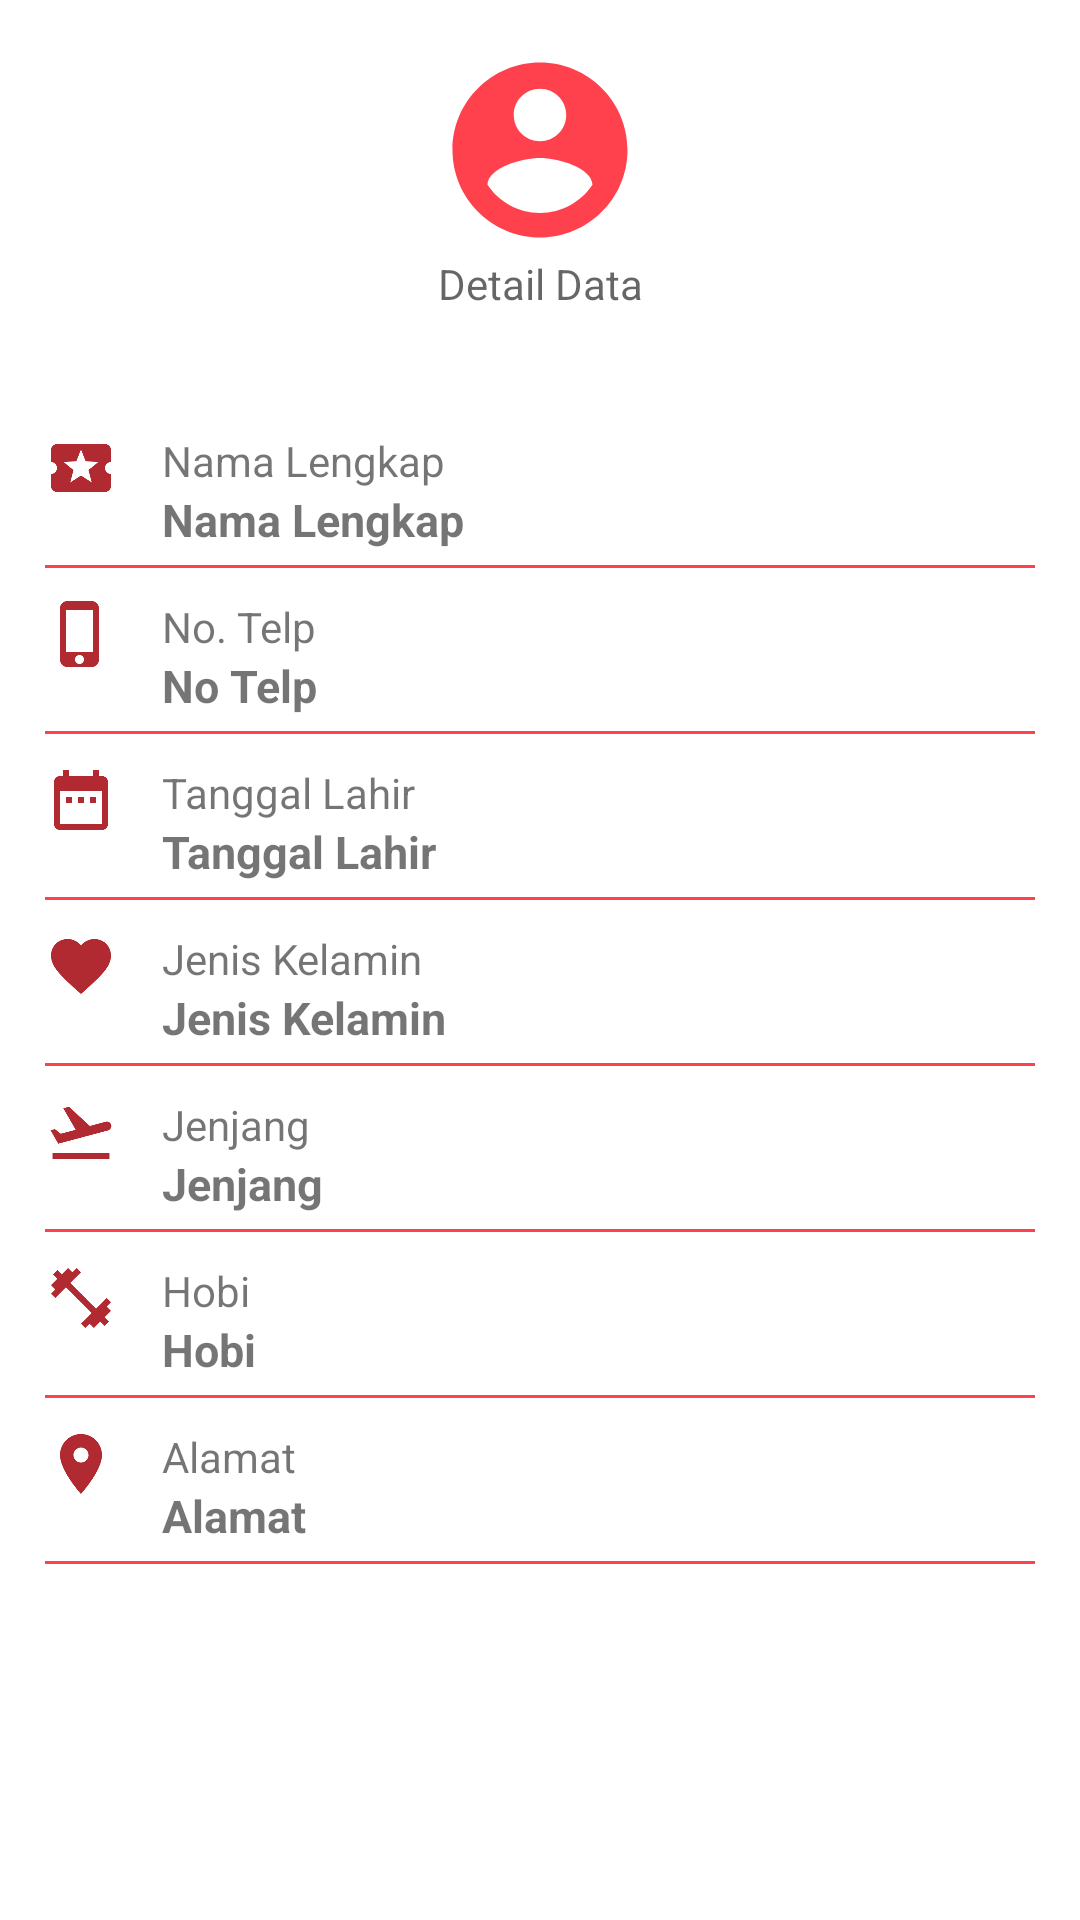

Icons on this 1080w x 1920h Android screen, each with the point to tap as (x,y):
account circle: (540,150)
date range: (81,800)
favorite: (81,966)
fitness center: (81,1298)
flight takeoff: (81,1133)
local activity: (81,468)
phone iphone: (79,634)
place: (81,1464)
